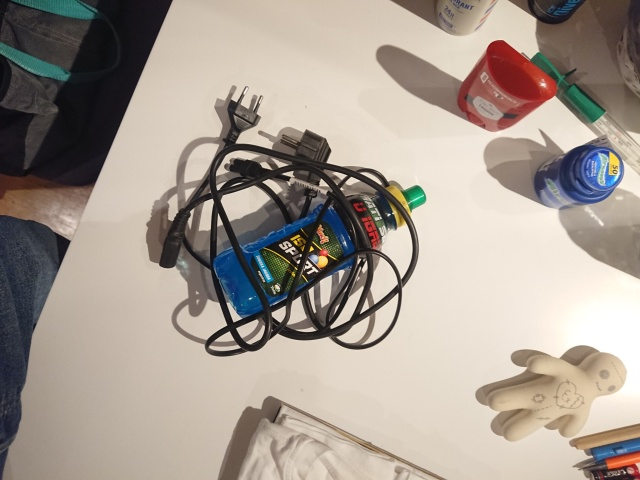Vindi Iso Sport Forest Strawberries 500mL: (210, 183, 429, 320)
